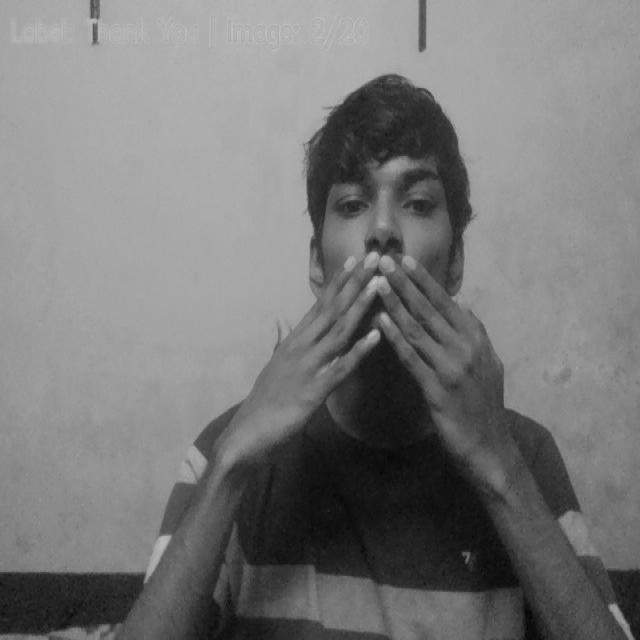Thank You: (232, 248, 516, 466)
